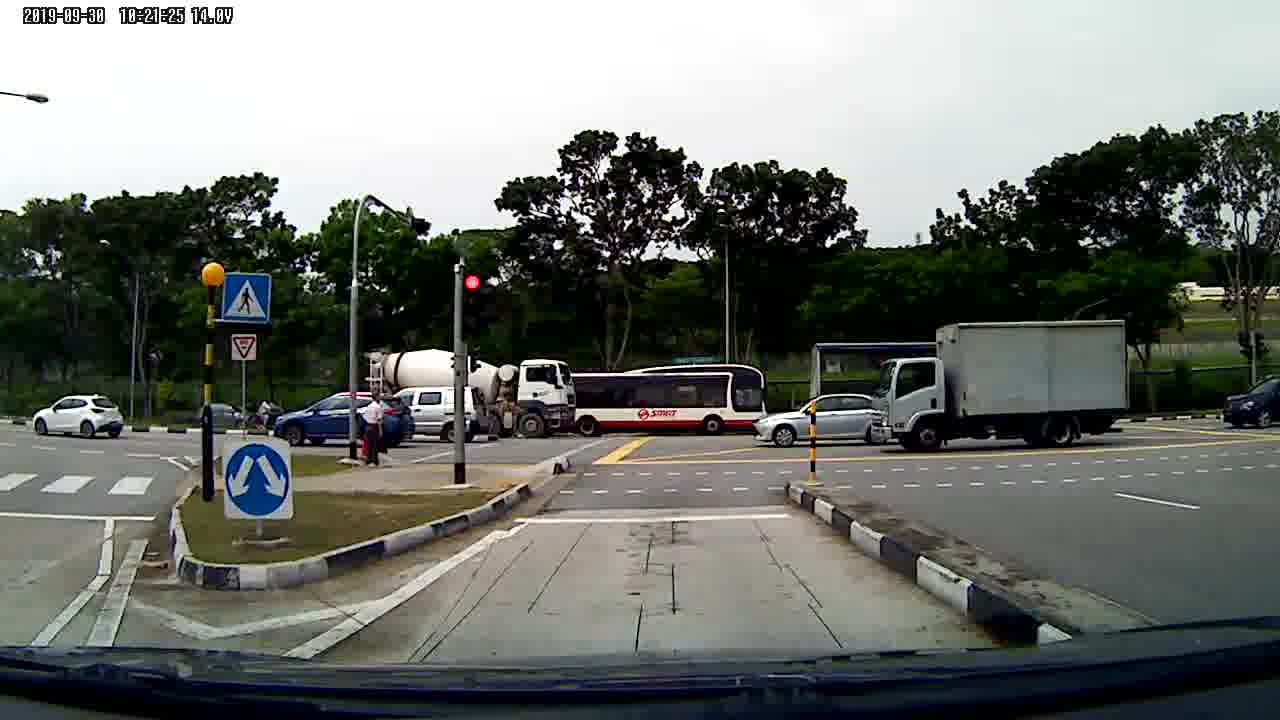bus: (573, 362, 769, 446)
car: (272, 388, 422, 449), (752, 395, 874, 448), (29, 392, 126, 436), (1225, 374, 1280, 428), (198, 400, 257, 430)
